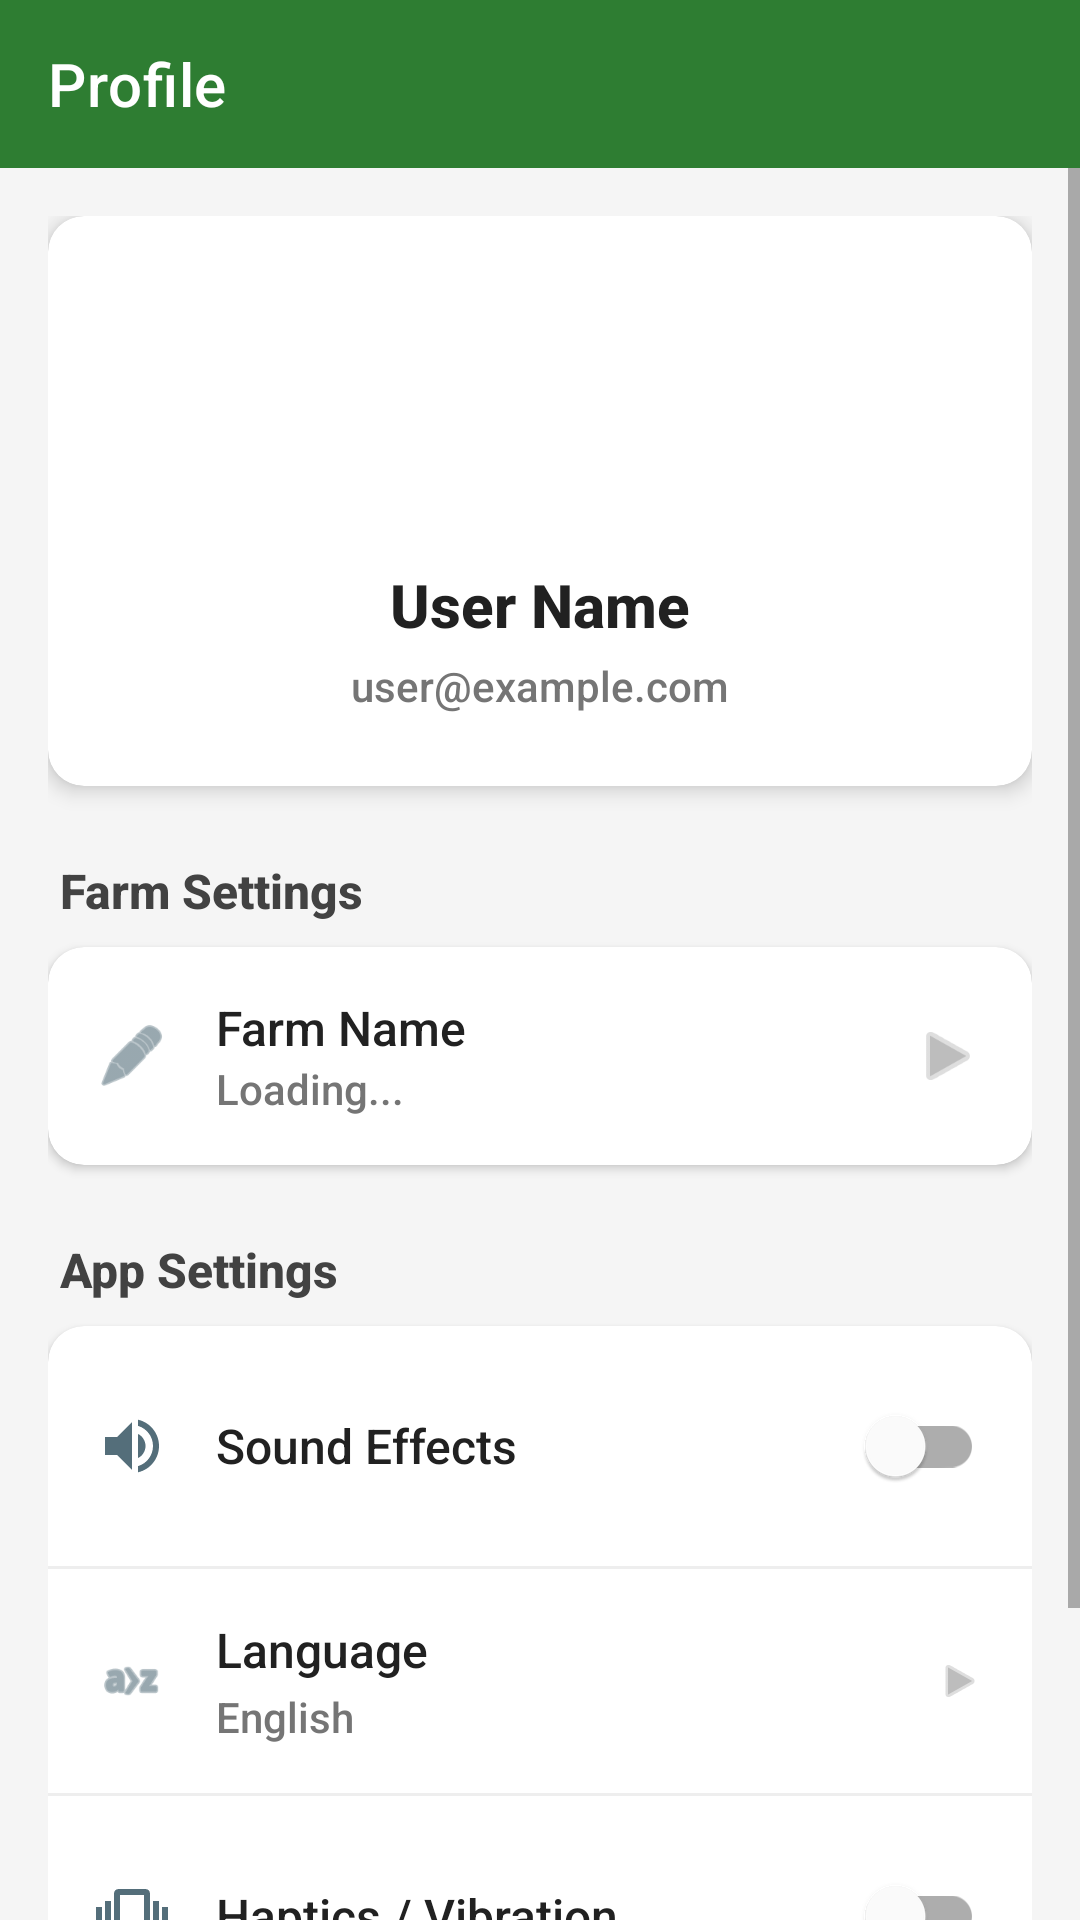

Named icons in this screenshot (1080w x 1920h) and their centers, point (x, y):
edit: point (131, 1055)
play: point (948, 1056), point (960, 1681)
sort alphabetically: point (131, 1681)
